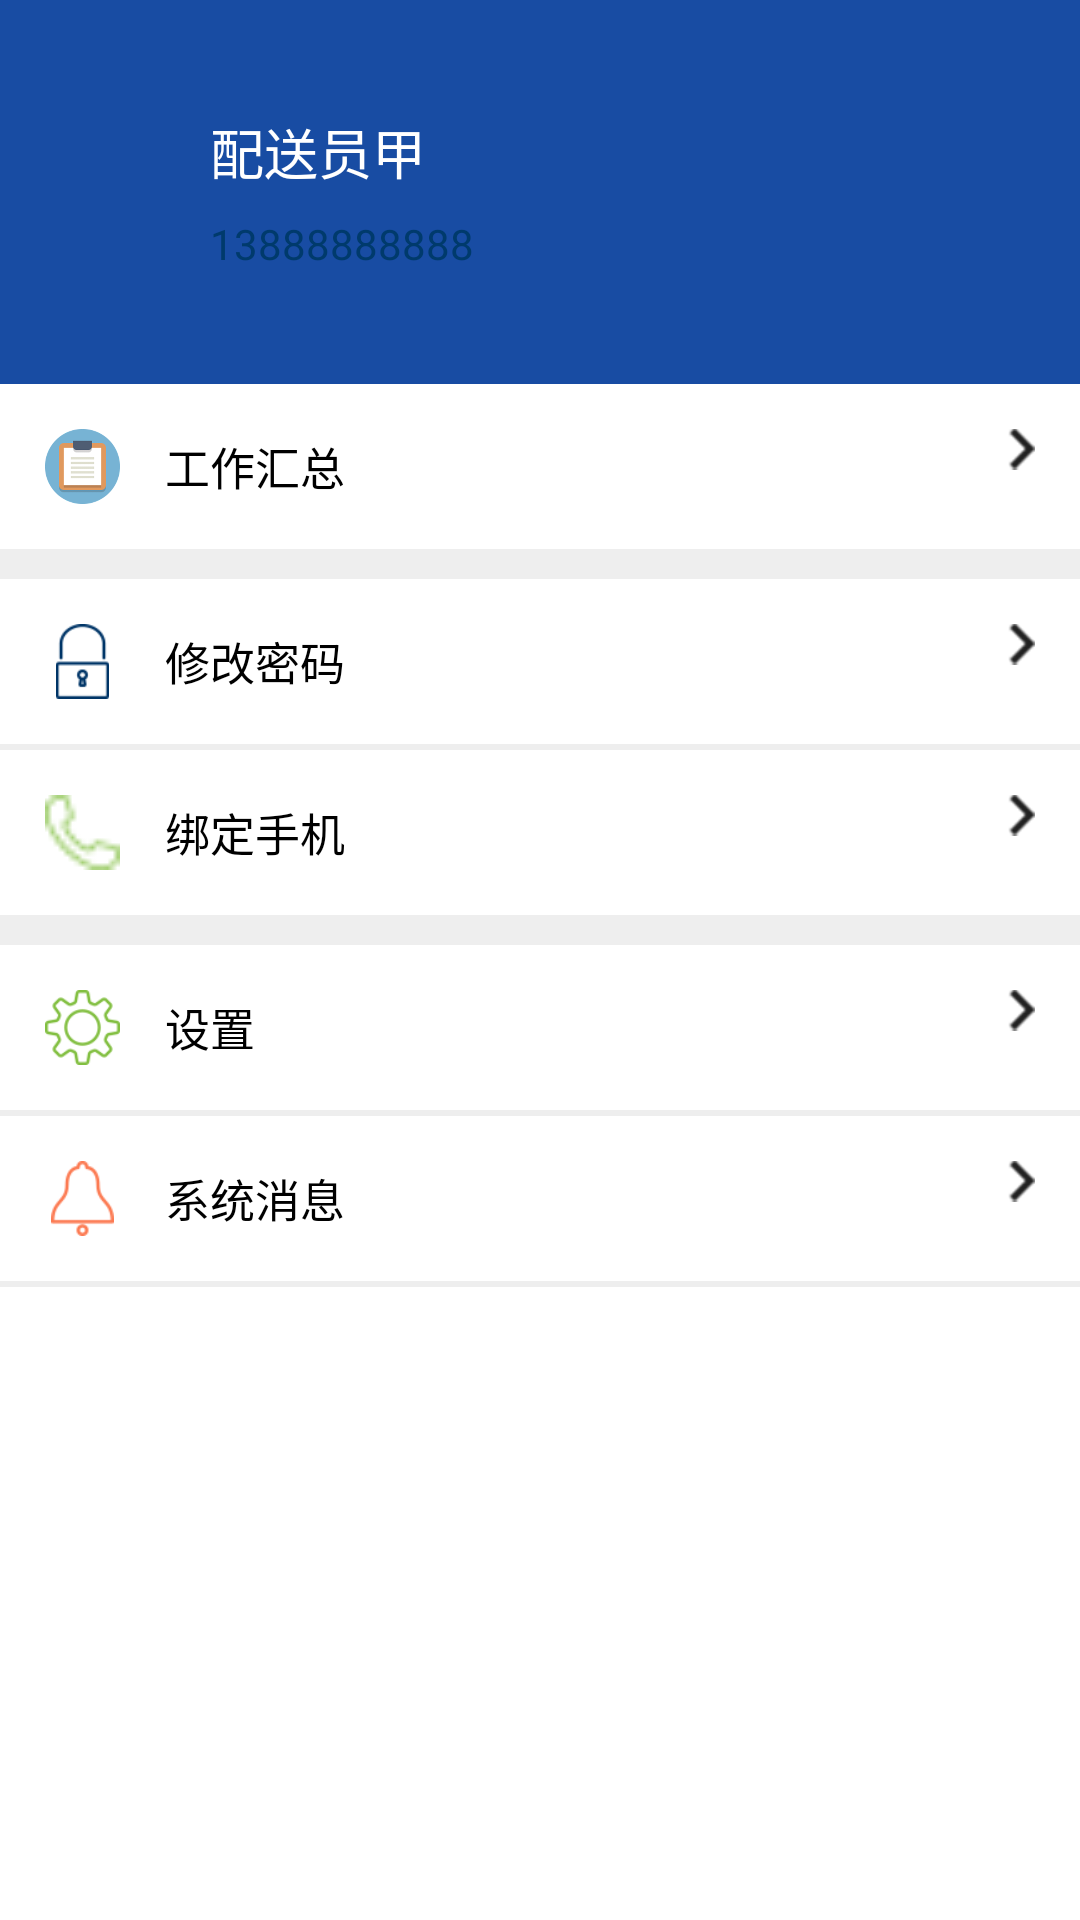

Named icons in this screenshot (1080px×1920px) and their bounding boxes, {"left": x1, "top": y1, "right": x2, "bottom": y2}:
clipboard: {"left": 45, "top": 429, "right": 120, "bottom": 504}
navigate next: {"left": 1009, "top": 429, "right": 1035, "bottom": 470}, {"left": 1009, "top": 624, "right": 1035, "bottom": 665}, {"left": 1009, "top": 795, "right": 1035, "bottom": 836}, {"left": 1009, "top": 990, "right": 1035, "bottom": 1031}, {"left": 1009, "top": 1161, "right": 1035, "bottom": 1202}
password: {"left": 56, "top": 624, "right": 109, "bottom": 699}
phone number: {"left": 45, "top": 795, "right": 120, "bottom": 870}
set up: {"left": 45, "top": 990, "right": 120, "bottom": 1065}
system message: {"left": 51, "top": 1161, "right": 114, "bottom": 1236}
